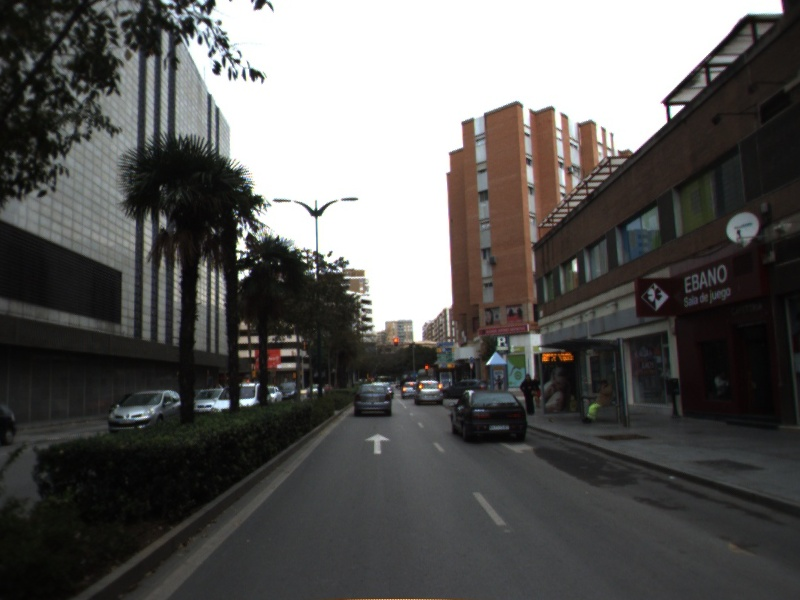STRAIGHT: (363, 432, 392, 456)
